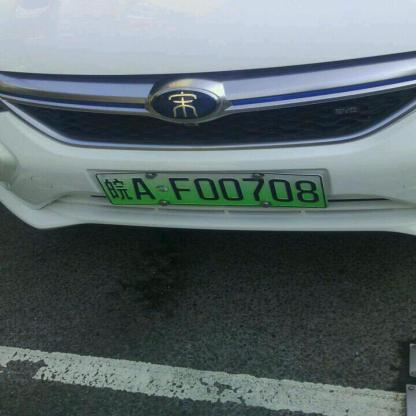lp: (96, 173, 326, 207)
